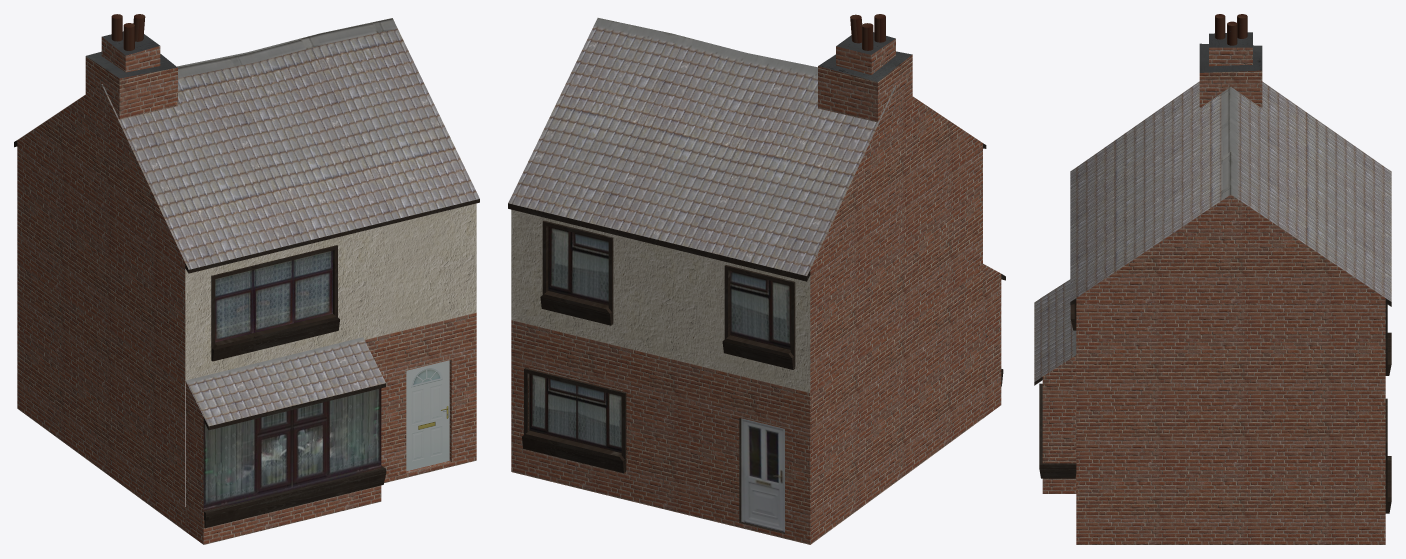
The model's file is terraced3c.FBX.
3 renders of one model, left to right at view 1: azimuth 30°, elevation 25°; view 2: azimuth 150°, elevation 25°; view 3: azimuth 270°, elevation 25°, orthographic. The views are drawn at different scales.
Parts seen in each view (by area): view 1: Box001; view 2: Box001; view 3: Box001.
Part boxes in pixels (x1,y1,x2,y2): Box001: (14,14,479,544); Box001: (508,14,1005,544); Box001: (1034,14,1391,544).
Size of the model in its own units: 800 by 1165 by 924.
